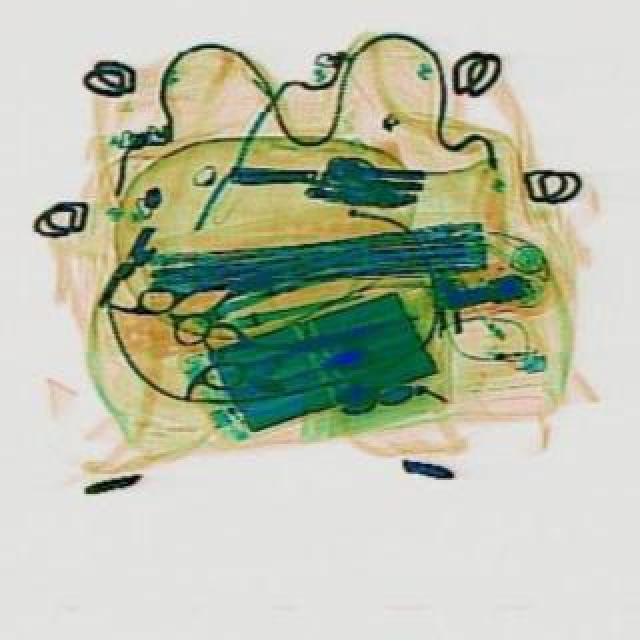pliers: (130, 238, 294, 354), (194, 306, 344, 390)
